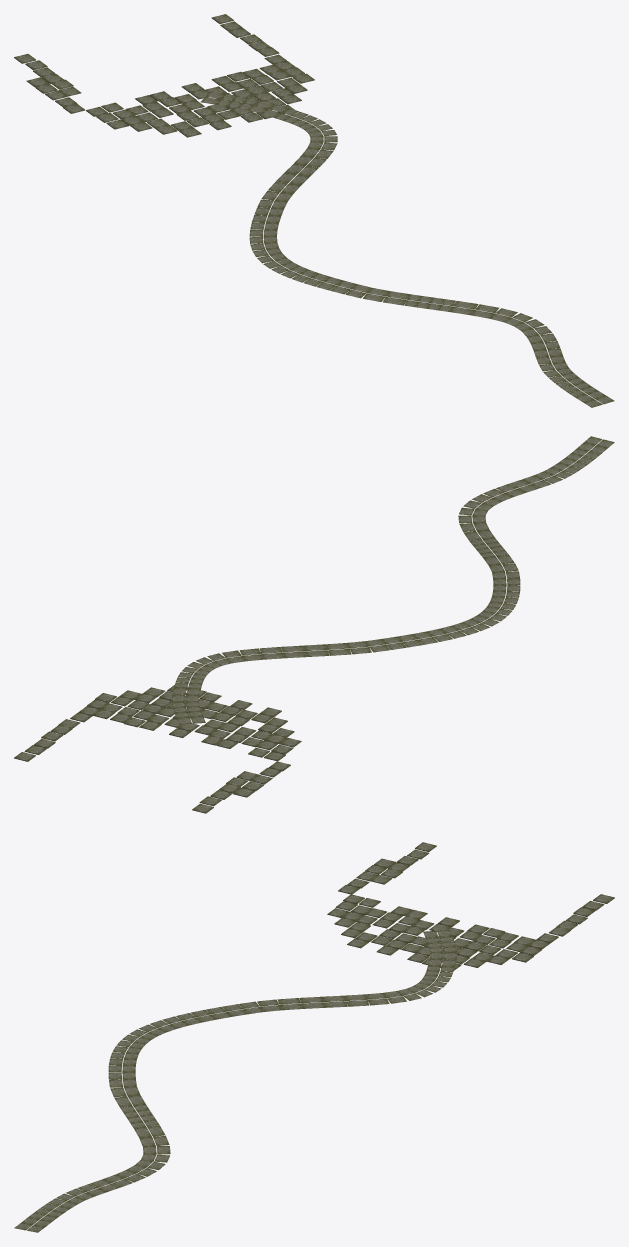
Rendered from grove_path.glb.
3 views of the same model, one above another, from view 1: azimuth 30°, elevation 25°; view 2: azimuth 150°, elevation 25°; view 3: azimuth 330°, elevation 25° (orthographic).
Visible parts, largest first — view 1: grove_path0; view 2: grove_path0; view 3: grove_path0.
Part boxes in pixels (box(x1,y1,x2,y2)): grove_path0: box(14, 14, 614, 407); grove_path0: box(14, 436, 614, 813); grove_path0: box(14, 842, 614, 1232).
Bounding box in the file's own units: 14.62 × 0.597 × 55.
Materials: 1 (1 with a texture image).
